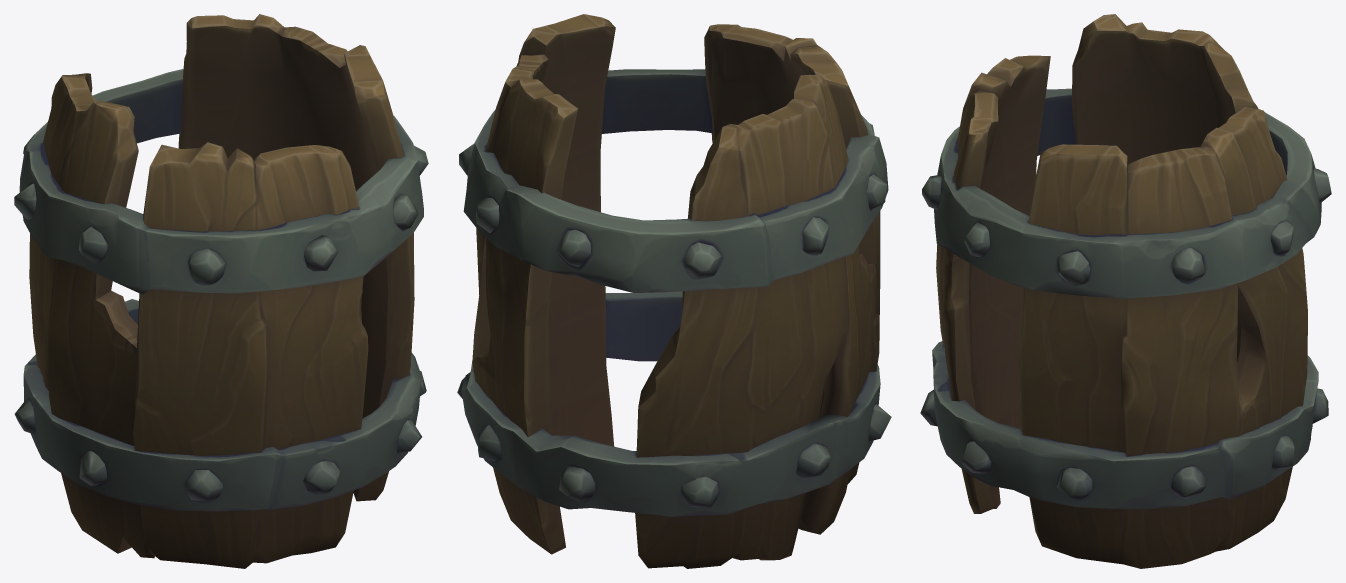
File: SM_FW01_Barrel_B_01.fbx
3 renders of one model, left to right at view 1: azimuth 30°, elevation 25°; view 2: azimuth 150°, elevation 25°; view 3: azimuth 270°, elevation 25°, orthographic. The views are drawn at different scales.
Parts seen in each view (by area): view 1: SM_FW01_Barrel_B_01_LOD0; view 2: SM_FW01_Barrel_B_01_LOD0; view 3: SM_FW01_Barrel_B_01_LOD0.
Boxes of the visible parts, box(x1,y1,x2,y2) form: SM_FW01_Barrel_B_01_LOD0: box(14, 14, 428, 568); SM_FW01_Barrel_B_01_LOD0: box(457, 14, 891, 568); SM_FW01_Barrel_B_01_LOD0: box(920, 14, 1331, 568).
Size of what is drawn, in the model's own units: 0.9584 by 1.15 by 0.9998.
